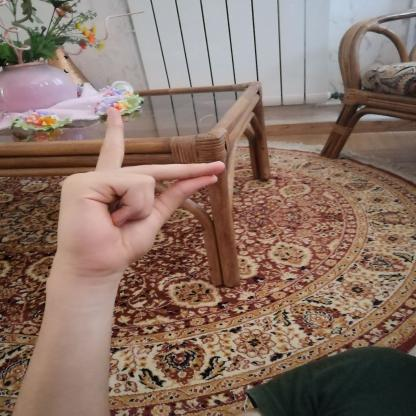TAA: (39, 97, 236, 286)
